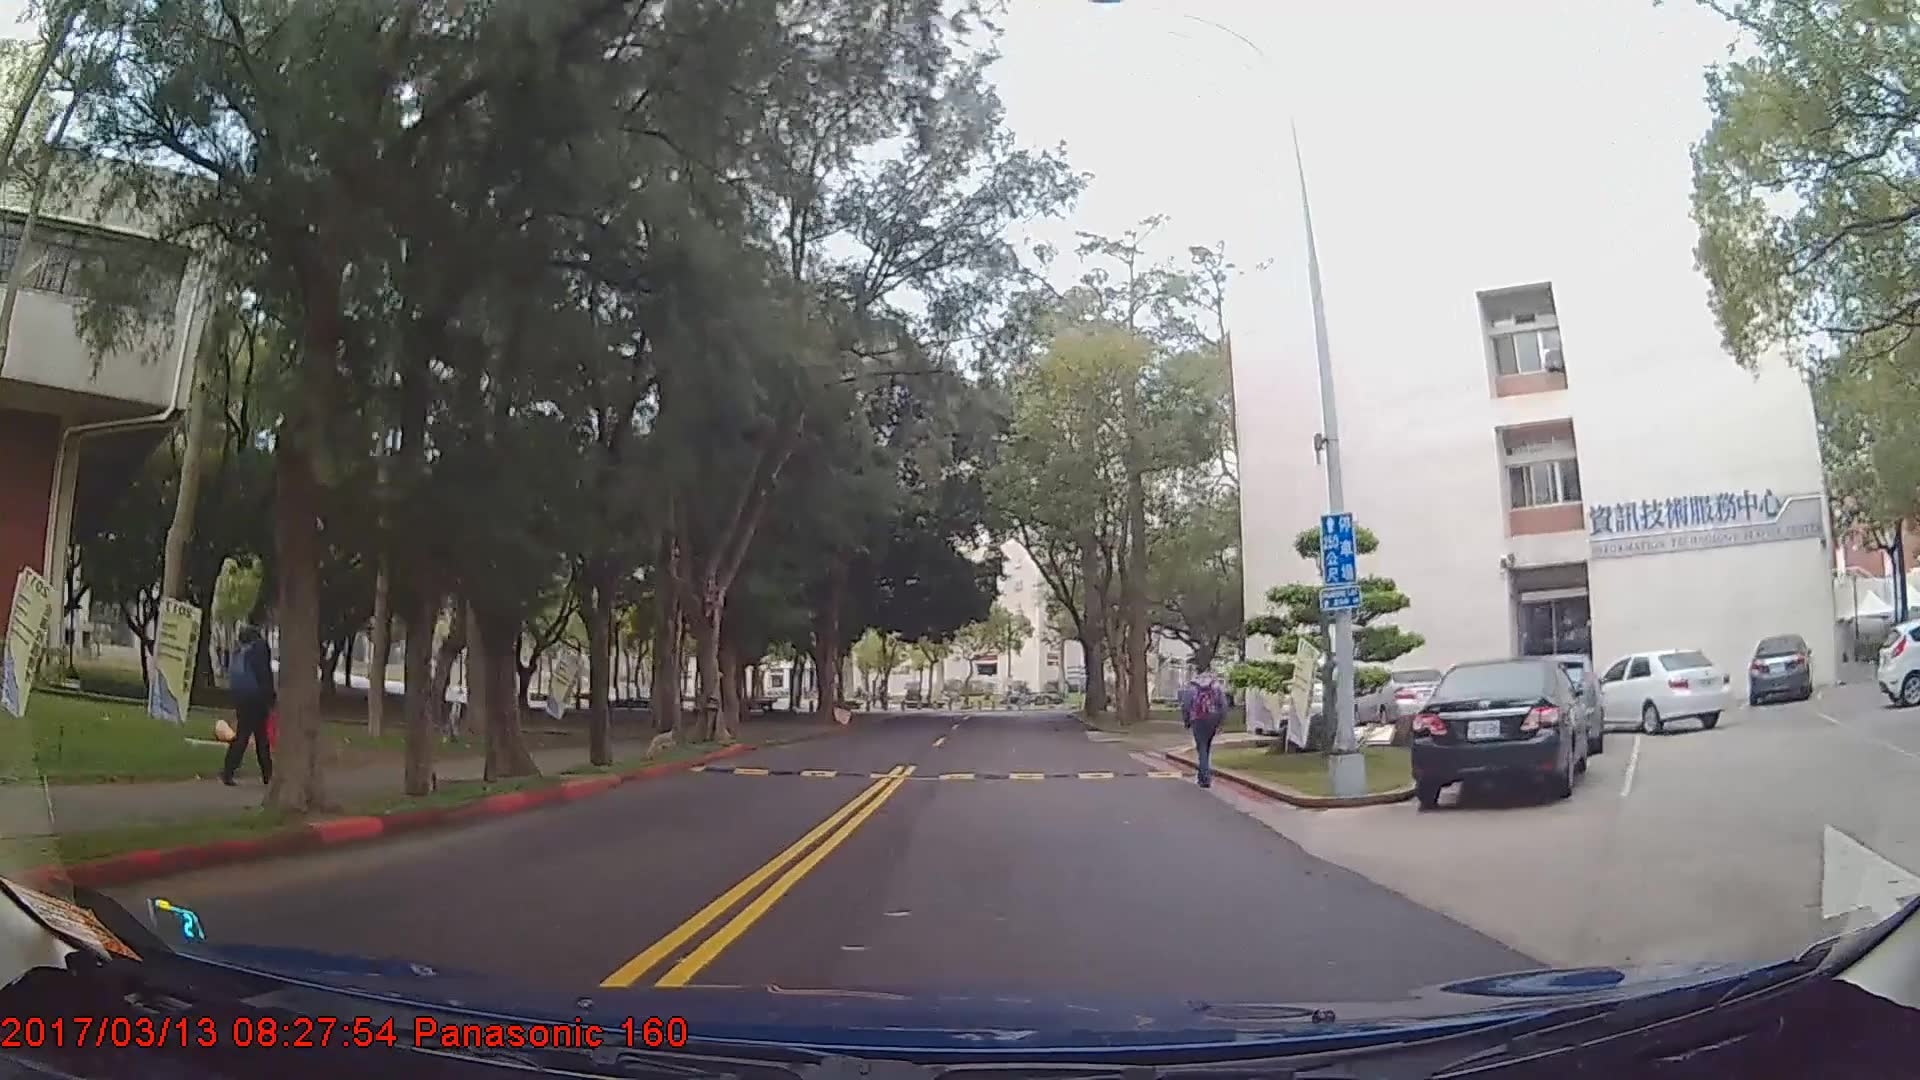pedestrian: (217, 606, 281, 792), (1177, 658, 1232, 790)
vehicle: (1410, 655, 1591, 812), (1590, 649, 1730, 736), (1352, 667, 1449, 727), (1747, 633, 1809, 708), (1875, 619, 1920, 711)
